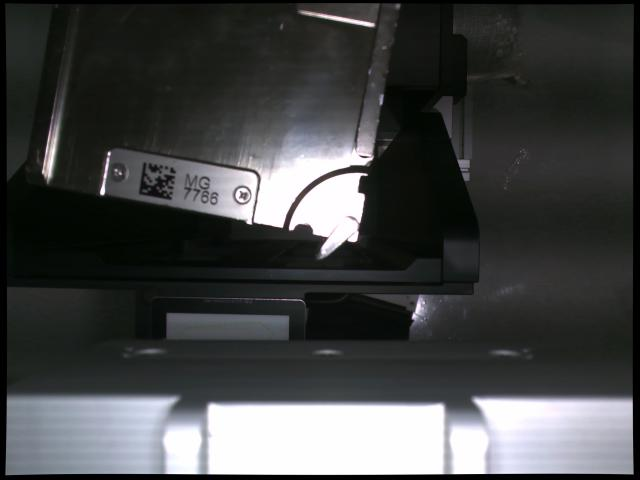jig_latch: (316, 216, 359, 259)
